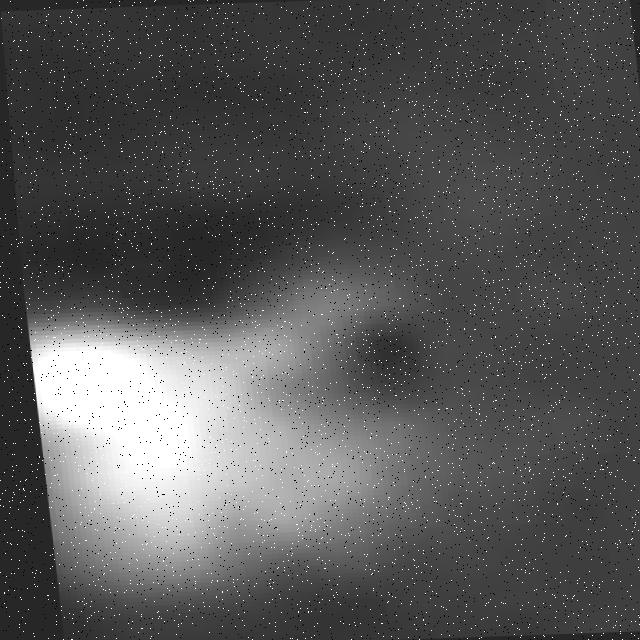person: (18, 272, 551, 601)
